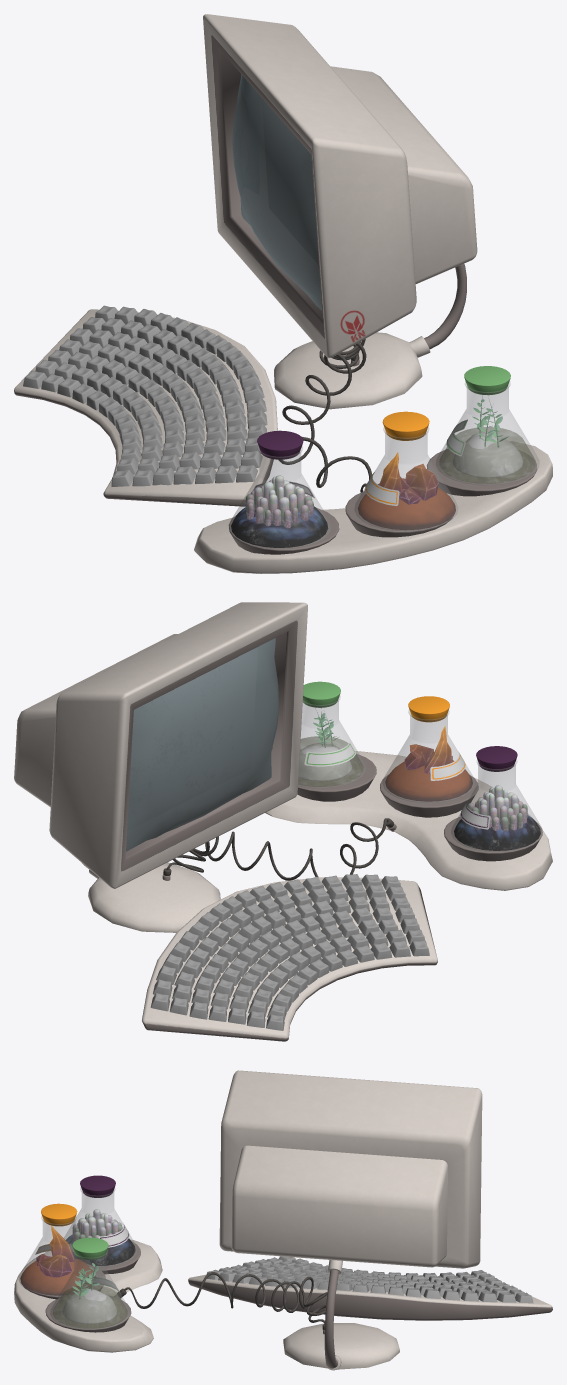
The picture shows the model from 3 angles, top to bottom: view 1: azimuth 30°, elevation 25°; view 2: azimuth 150°, elevation 25°; view 3: azimuth 270°, elevation 25°; orthographic projection. The views are drawn at different scales.
Parts seen in each view (by area): view 1: computer-monitor_Material #38_0, computer-samplepad_Material #33_0, computer-screen_Material #39_0, computer-stand_Material #37_0, computer-keyboard_Material #34_0, purple-beaker, green-beaker, orange-beaker, green-liquid_Material #30_0, orange-soil_Material #27_0, purple-geode_Material #28_0, purple-soil_Material #29_0 (+6 smaller); view 2: computer-monitor_Material #38_0, computer-screen_Material #39_0, computer-samplepad_Material #33_0, computer-keyboard_Material #34_0, computer-stand_Material #37_0, purple-beaker, orange-beaker, green-beaker, orange-soil_Material #27_0, computer-cord-long_Material #36_0, purple-soil_Material #29_0, green-liquid_Material #30_0 (+6 smaller); view 3: computer-monitor_Material #38_0, computer-samplepad_Material #33_0, computer-keyboard_Material #34_0, computer-stand_Material #37_0, green-beaker, orange-beaker, purple-beaker, green-liquid_Material #30_0, computer-cord-long_Material #36_0, orange-soil_Material #27_0, green-soil_Material #31_0, orange-crystal_Material #26_0 (+5 smaller).
Boxes of the visible parts, <box> form: computer-monitor_Material #38_0: <box>203,14,477,357</box>; computer-samplepad_Material #33_0: <box>194,441,552,573</box>; computer-screen_Material #39_0: <box>232,74,321,310</box>; computer-stand_Material #37_0: <box>274,264,466,409</box>; computer-keyboard_Material #34_0: <box>14,309,277,506</box>; purple-beaker: <box>229,446,331,548</box>; green-beaker: <box>436,381,539,484</box>; orange-beaker: <box>354,427,457,530</box>; green-liquid_Material #30_0: <box>439,427,535,483</box>; orange-soil_Material #27_0: <box>357,478,455,530</box>; purple-geode_Material #28_0: <box>245,475,313,528</box>; purple-soil_Material #29_0: <box>231,506,328,547</box>; computer-monitor_Material #38_0: <box>14,602,307,888</box>; computer-screen_Material #39_0: <box>126,638,278,851</box>; computer-samplepad_Material #33_0: <box>265,749,552,890</box>; computer-keyboard_Material #34_0: <box>142,877,437,1041</box>; computer-stand_Material #37_0: <box>82,862,220,932</box>; purple-beaker: <box>451,759,542,851</box>; orange-beaker: <box>382,710,475,802</box>; green-beaker: <box>298,696,365,788</box>; orange-soil_Material #27_0: <box>385,760,472,801</box>; computer-cord-long_Material #36_0: <box>163,818,393,880</box>; purple-soil_Material #29_0: <box>454,814,540,850</box>; green-liquid_Material #30_0: <box>298,736,363,786</box>; computer-monitor_Material #38_0: <box>219,1070,482,1268</box>; computer-samplepad_Material #33_0: <box>14,1239,162,1352</box>; computer-keyboard_Material #34_0: <box>188,1274,552,1320</box>; computer-stand_Material #37_0: <box>283,1260,399,1370</box>; green-beaker: <box>50,1250,130,1329</box>; orange-beaker: <box>19,1216,98,1296</box>; purple-beaker: <box>64,1187,137,1266</box>; green-liquid_Material #30_0: <box>53,1285,127,1328</box>; computer-cord-long_Material #36_0: <box>117,1272,327,1330</box>; orange-soil_Material #27_0: <box>20,1256,95,1295</box>; green-soil_Material #31_0: <box>62,1289,117,1323</box>; orange-crystal_Material #26_0: <box>36,1225,75,1277</box>.
Bounding box in the file's own units: 49.62 × 40.46 × 74.84.
